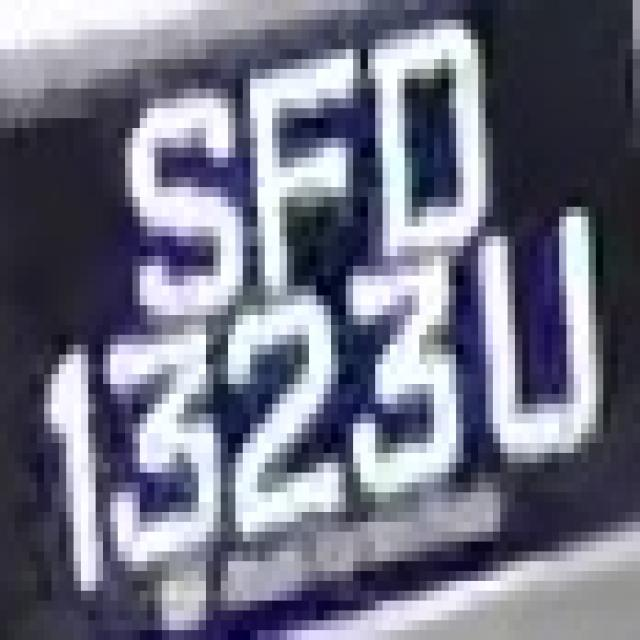1: (22, 315, 103, 601)
2: (206, 276, 353, 561)
3: (331, 236, 471, 522), (103, 335, 228, 581)
D: (353, 0, 493, 266)
F: (221, 29, 368, 276)
S: (96, 79, 264, 305)
U: (464, 207, 604, 472)
